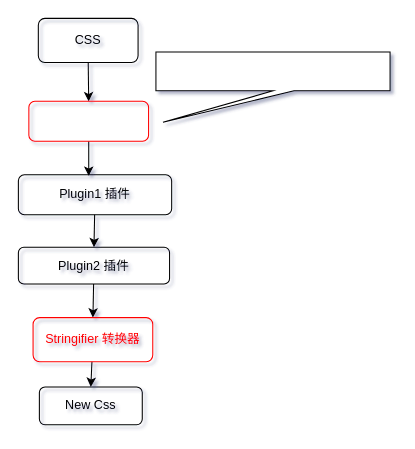
Some shapes in this 415 by 449 pixel diagram are drawn without their labels. The shapes that lost their labels are listed below. From the top down, each one's centre as x and y in pixels, then its label:
At [272,86]: "会把css先解析成AST（抽象语法树）".
At [88,120]: "Parser 解析器".
